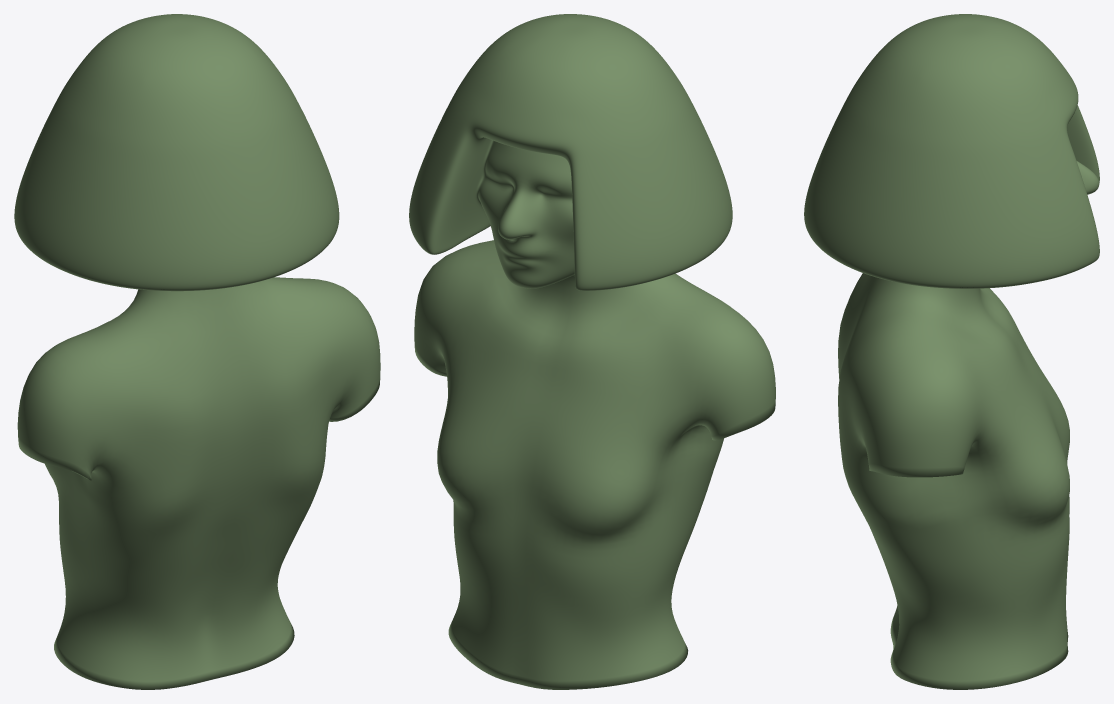
Rendered from mellszobor2.fbx.
3 views of the same model, side by side, from view 1: azimuth 30°, elevation 25°; view 2: azimuth 150°, elevation 25°; view 3: azimuth 270°, elevation 25° (orthographic).
Visible parts, largest first — view 1: Retopo_asd.002; view 2: Retopo_asd.002; view 3: Retopo_asd.002.
Boxes of the visible parts, x1=… form: Retopo_asd.002: x1=14, y1=14, x2=380, y2=689; Retopo_asd.002: x1=409, y1=14, x2=775, y2=689; Retopo_asd.002: x1=804, y1=14, x2=1099, y2=689.
Size of the model in its own units: 289 by 498 by 215.
